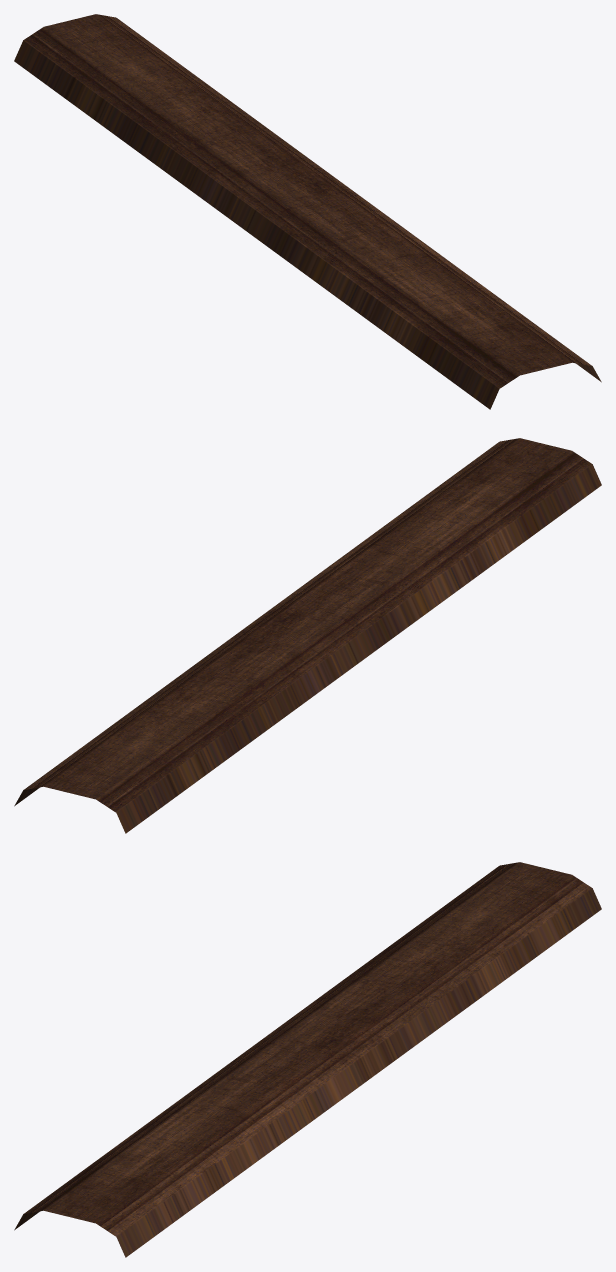
The model's file is floor_bathroom stopper.fbx.
The picture shows the model from 3 angles, top to bottom: view 1: azimuth 30°, elevation 25°; view 2: azimuth 150°, elevation 25°; view 3: azimuth 330°, elevation 25°; orthographic projection.
Visible parts, largest first — view 1: floor_stopper_restroom; view 2: floor_stopper_restroom; view 3: floor_stopper_restroom.
Boxes of the visible parts, x1,y1,x2,y2 form: floor_stopper_restroom: [14, 14, 601, 409]; floor_stopper_restroom: [14, 438, 601, 833]; floor_stopper_restroom: [14, 862, 601, 1257].
Bounding box in the file's own units: 33.85 × 7.86 × 250.
1 material, 1 textured.
